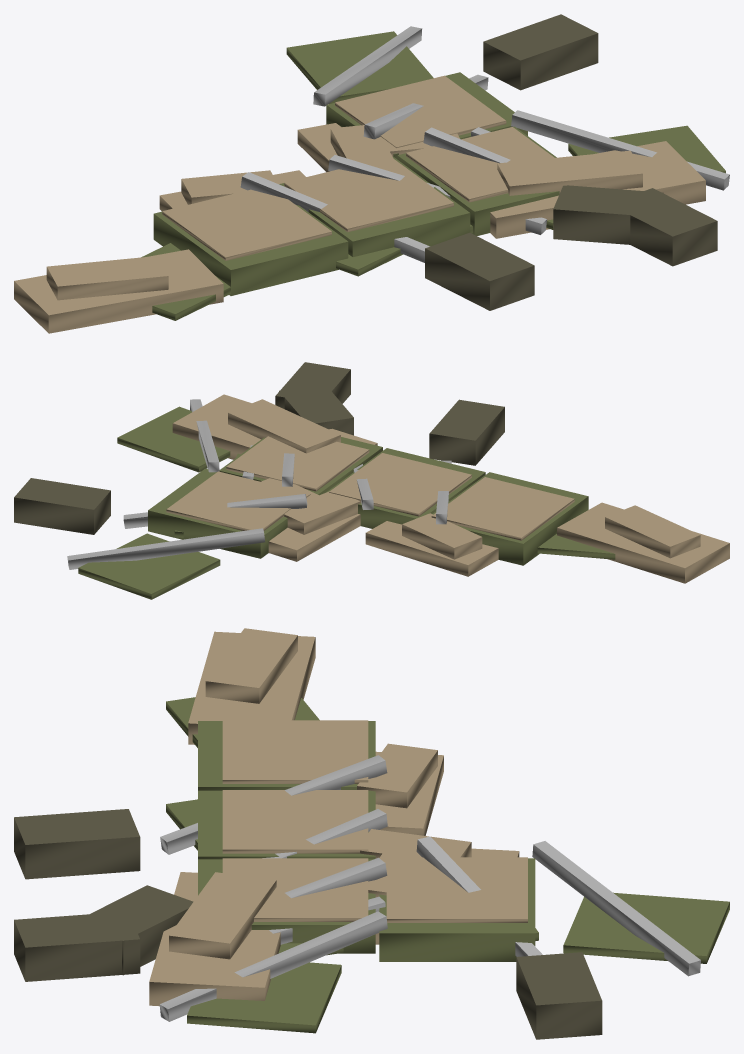
File: SM_HescoRemateEspejo_v3_RemateSacos_e3_Brecha_LOD1.fbx
3 views of the same model, one above another, from view 1: azimuth 30°, elevation 25°; view 2: azimuth 150°, elevation 25°; view 3: azimuth 270°, elevation 25° (orthographic). The views are drawn at different scales.
Visible parts, largest first — view 1: SM_hesco_piezas_v35_LOD1; view 2: SM_hesco_piezas_v35_LOD1; view 3: SM_hesco_piezas_v35_LOD1.
Part boxes in pixels (box(x1,y1,x2,y2)): SM_hesco_piezas_v35_LOD1: box(14, 14, 729, 333); SM_hesco_piezas_v35_LOD1: box(14, 362, 729, 599); SM_hesco_piezas_v35_LOD1: box(14, 628, 729, 1039).
Size of the model in its own units: 6.29 by 0.351 by 4.92.
